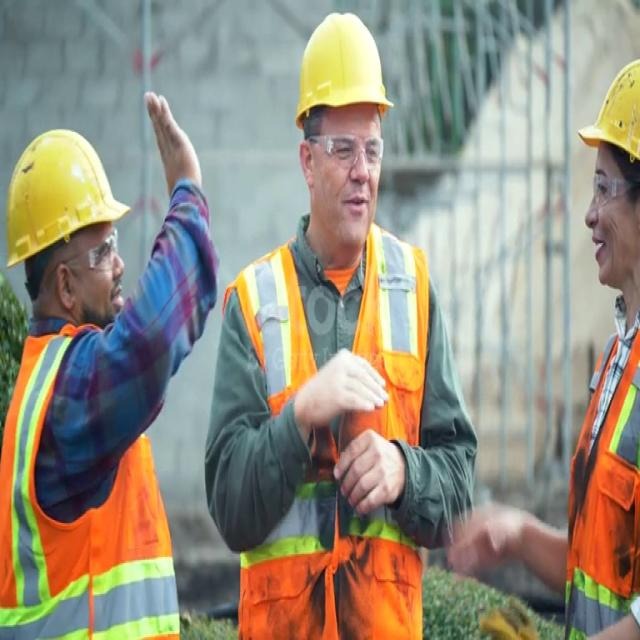capacete: (3, 121, 136, 266), (280, 0, 398, 140), (575, 46, 640, 180)
